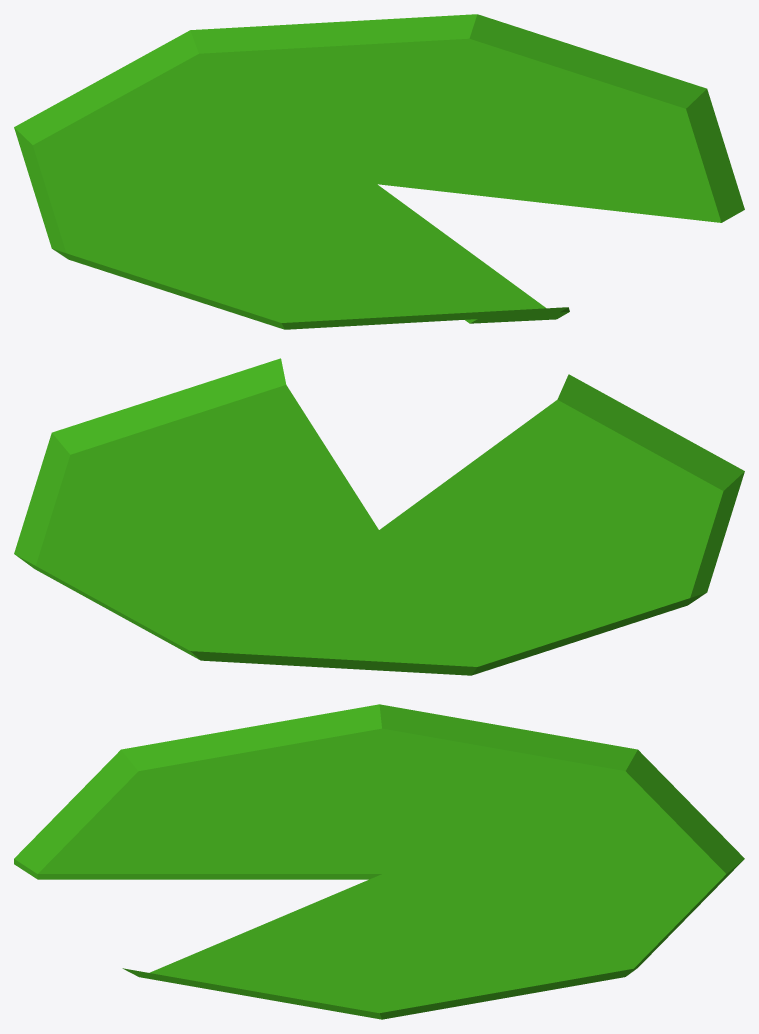
File: Environment_Lilypad.fbx
3 views of the same model, one above another, from view 1: azimuth 30°, elevation 25°; view 2: azimuth 150°, elevation 25°; view 3: azimuth 270°, elevation 25° (orthographic). The views are drawn at different scales.
Visible parts, largest first — view 1: LilyLeaf_001; view 2: LilyLeaf_001; view 3: LilyLeaf_001.
Boxes of the visible parts, box(x1,y1,x2,y2) form: LilyLeaf_001: box(14, 14, 744, 329); LilyLeaf_001: box(14, 358, 744, 675); LilyLeaf_001: box(14, 704, 744, 1019).
Bounding box in the file's own units: 425 × 425 × 13.23.
